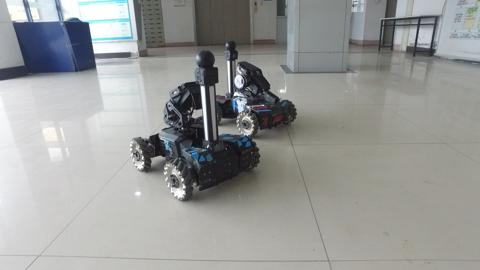chariot: (127, 51, 267, 210), (206, 37, 298, 146)
